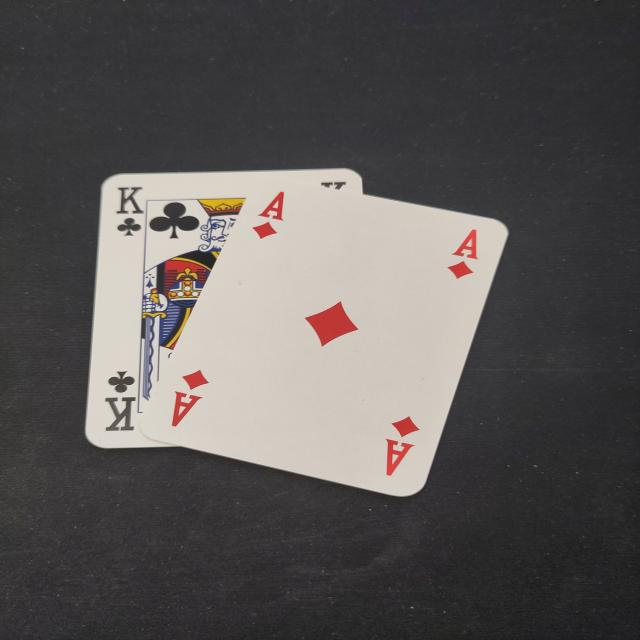Ad: (164, 365, 222, 432), (377, 408, 426, 483), (243, 186, 298, 247), (441, 223, 489, 286)
Kc: (99, 363, 143, 439), (112, 177, 149, 244)
